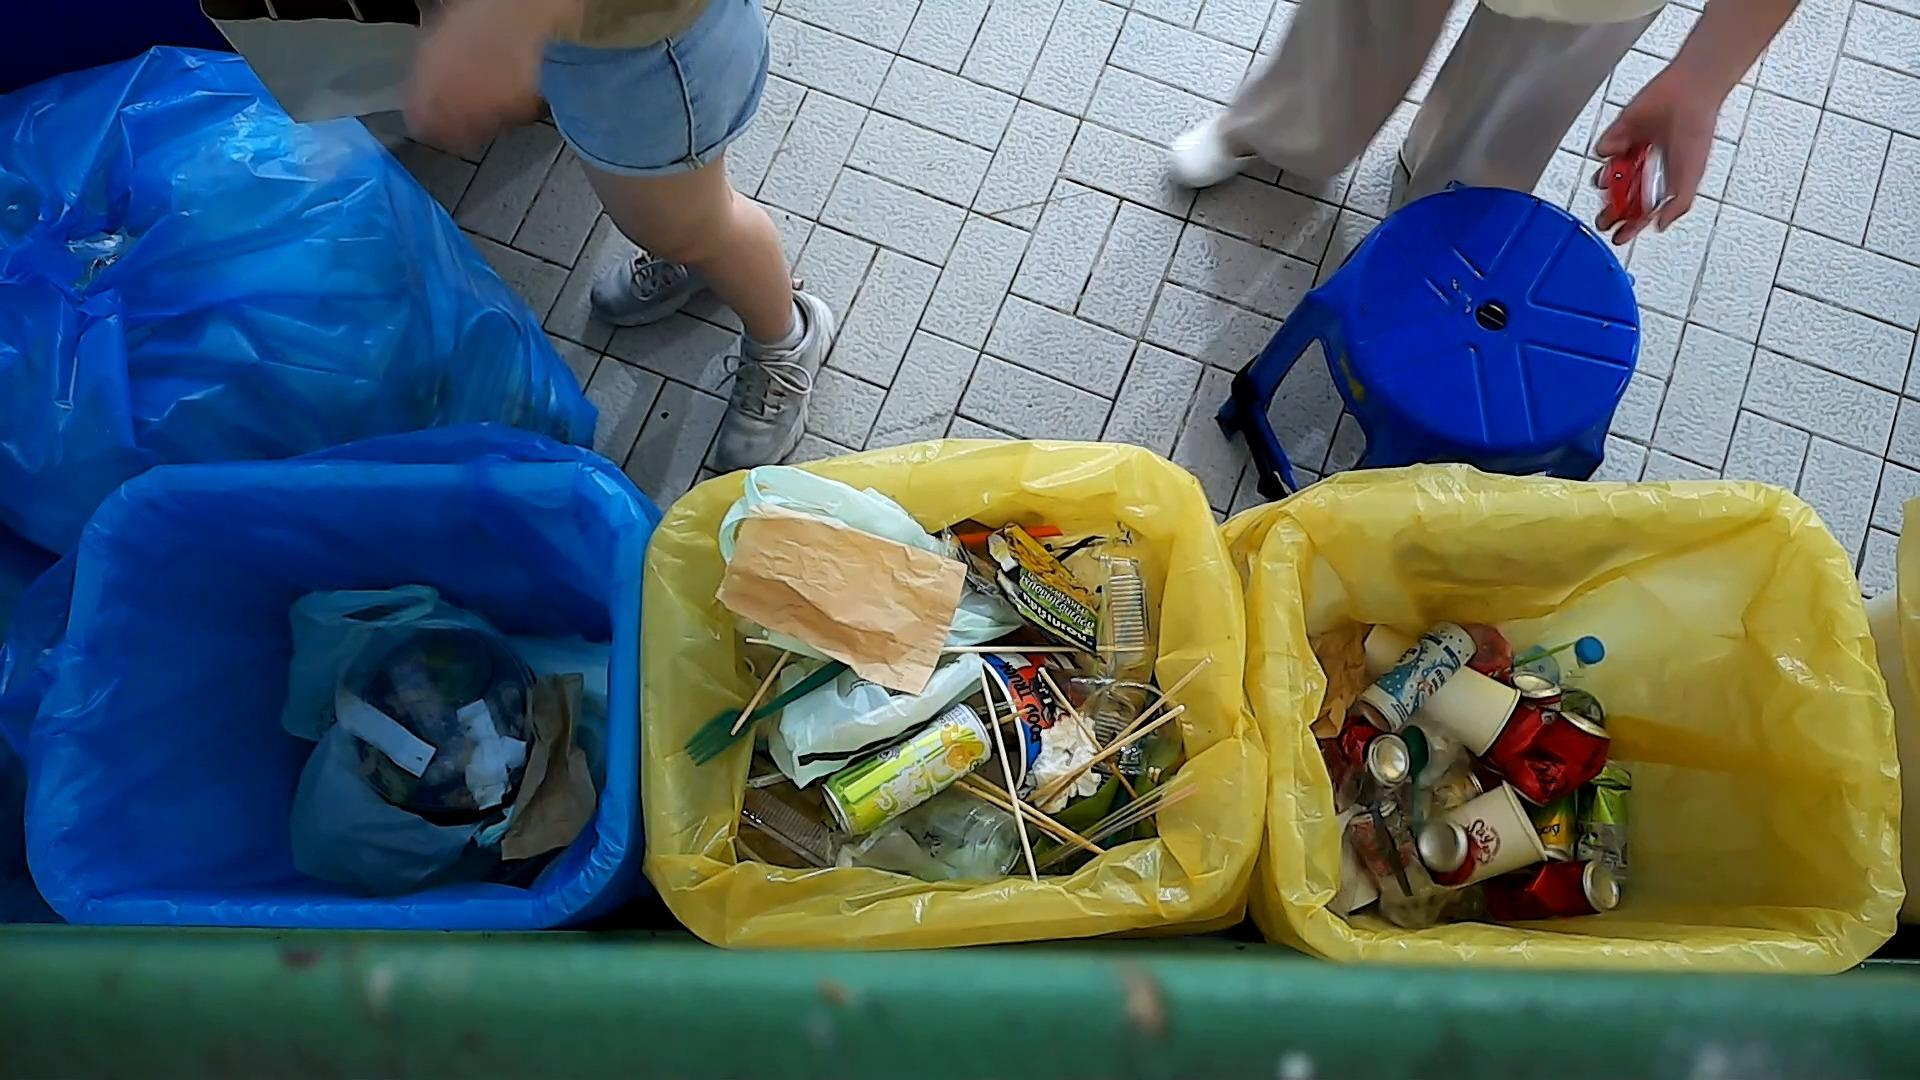can: (822, 704, 994, 836), (1362, 618, 1480, 733), (1505, 709, 1611, 803), (1578, 758, 1635, 886), (1491, 675, 1561, 767), (1523, 857, 1622, 918), (1593, 142, 1665, 222), (1332, 724, 1411, 793), (1414, 818, 1477, 889), (1527, 808, 1580, 866)
filled plastic bag: (291, 609, 543, 887)
food container: (737, 787, 843, 868), (1095, 551, 1155, 670)
paper bag: (711, 502, 969, 698), (195, 0, 426, 124), (500, 673, 597, 865), (1309, 622, 1367, 736)
plastic bag: (766, 641, 984, 787)
plastic cutlery: (684, 665, 844, 762), (1345, 771, 1416, 897), (1396, 720, 1437, 837)
snack packaging: (989, 521, 1109, 667)
sticks: (1035, 703, 1184, 810), (1036, 667, 1139, 798), (957, 774, 1109, 855), (980, 673, 1035, 884), (1104, 657, 1216, 753), (731, 651, 793, 737), (940, 641, 1147, 658)
straw: (1044, 770, 1199, 868)
tissue paper: (456, 700, 524, 807), (1030, 716, 1101, 815)
zero waste cup: (1365, 624, 1523, 758), (1473, 774, 1543, 893)
